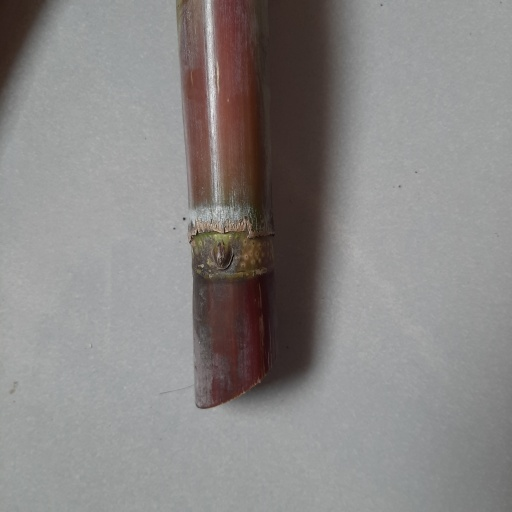Bud: (211, 241, 234, 270)
